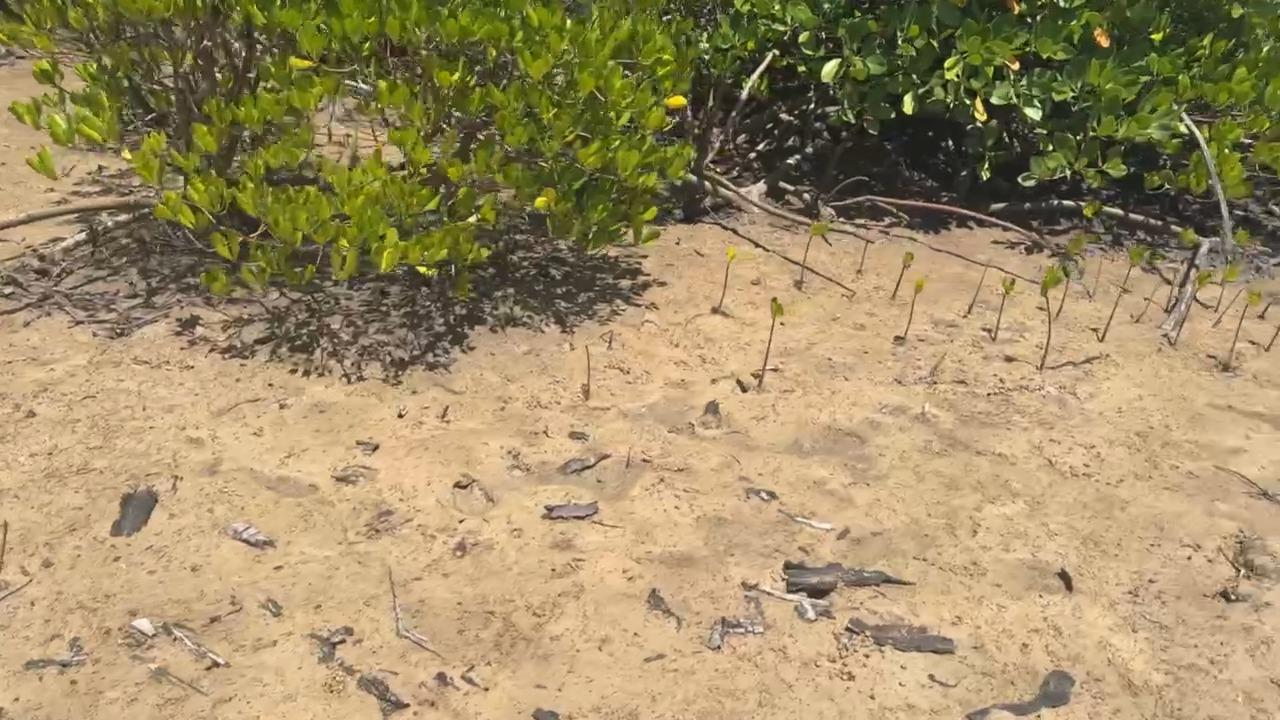Tree: (1099, 245, 1147, 342), (1173, 268, 1215, 346), (1224, 287, 1262, 370), (1054, 234, 1090, 317), (1164, 228, 1196, 311), (1039, 273, 1065, 370), (757, 297, 783, 386), (799, 222, 831, 284), (992, 275, 1015, 342), (967, 257, 994, 314), (1213, 260, 1243, 310), (1212, 285, 1247, 326), (904, 277, 925, 338), (718, 248, 739, 308), (891, 251, 916, 298), (1135, 283, 1163, 322), (1266, 323, 1280, 353), (859, 239, 870, 272), (584, 344, 590, 396), (1259, 299, 1274, 316)
